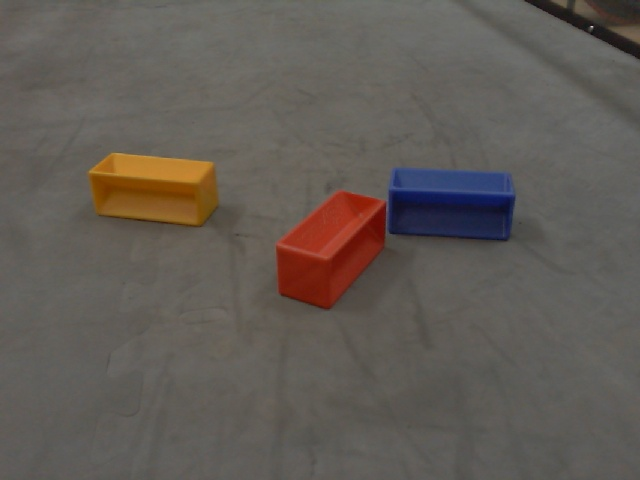BlueSample: (385, 164, 518, 246)
RedSample: (269, 190, 389, 307)
YellowSample: (86, 150, 224, 229)
